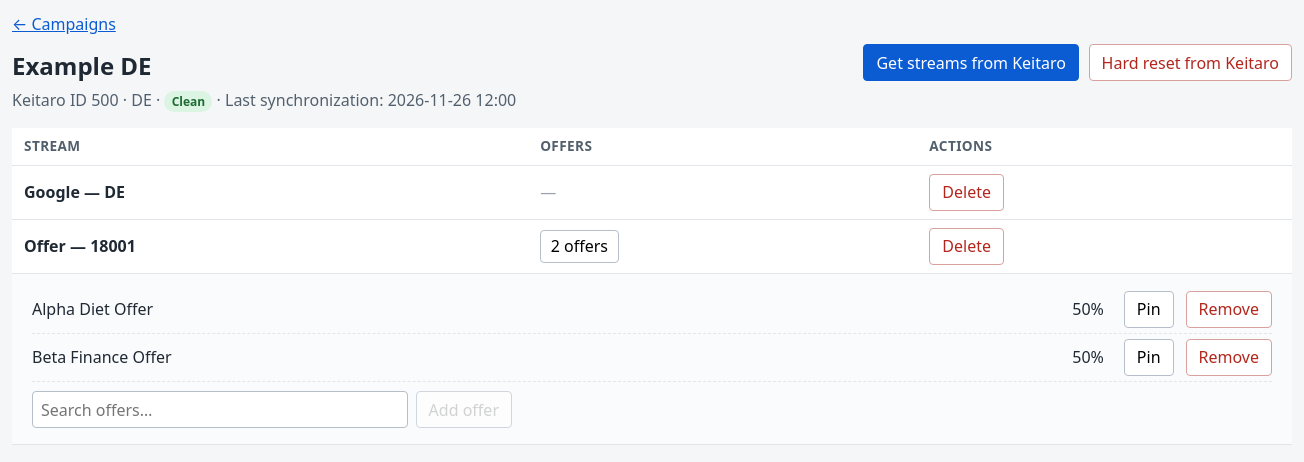
Test: CampaignEditorPage — offer editing › keeps a removed offer locally and restores it through the draft API
The width and height of the screenshot is (1304, 462).
Step 1. Click the button "Remove" in the row of "Alpha Diet Offer" → (1229, 310), box [1186,291,1272,328]
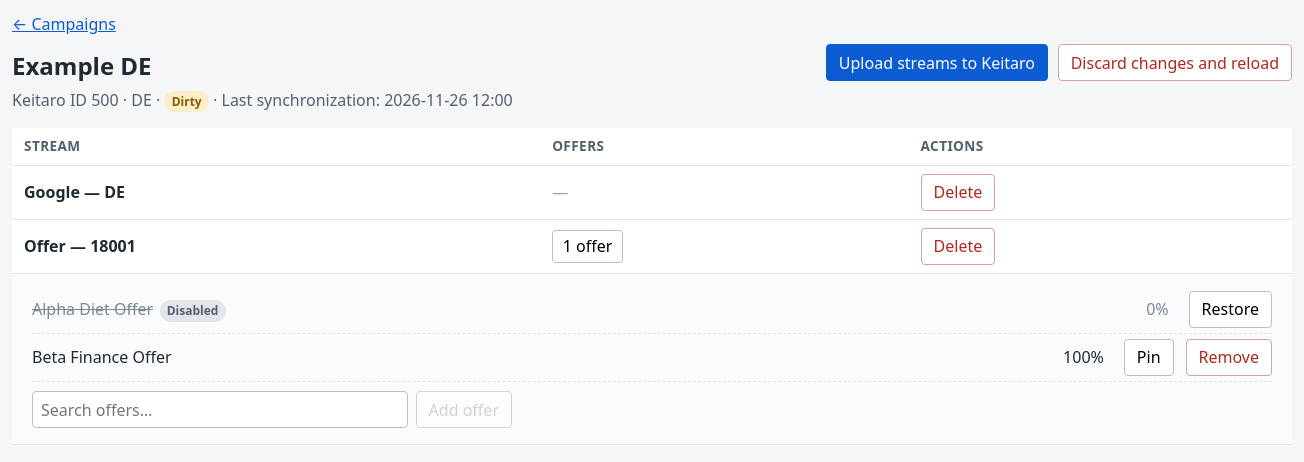
Expected: the text "Alpha Diet Offer" is shown, [32,298,153,320]
Now the button "1 offer" is shown, box [552,230,623,263]
Step 2. Click the button "Restore" → (1230, 310), box [1189,291,1272,328]
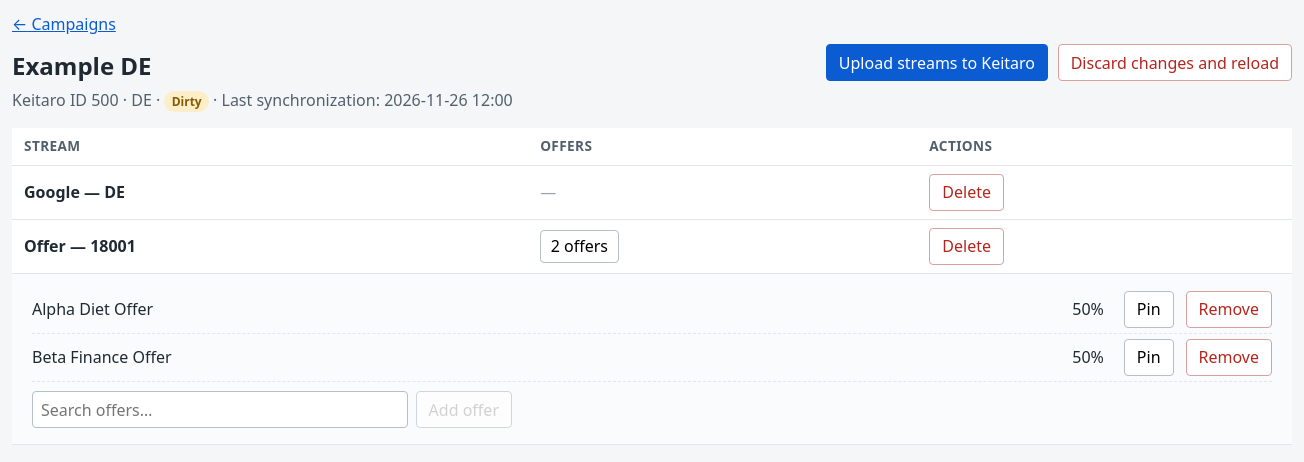
Now the text "Disabled" is gone
Now the text "50%" in the row of "Alpha Diet Offer" is shown, box [1072,298,1104,322]
Now the button "Remove" in the row of "Alpha Diet Offer" is shown, box [1186,291,1272,328]
